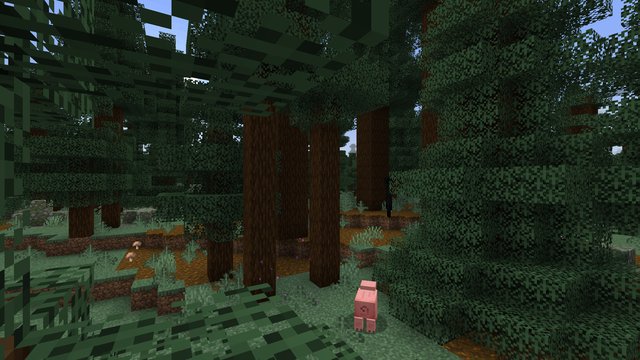cochons: (347, 286, 386, 332)
endermens: (382, 176, 394, 217)
